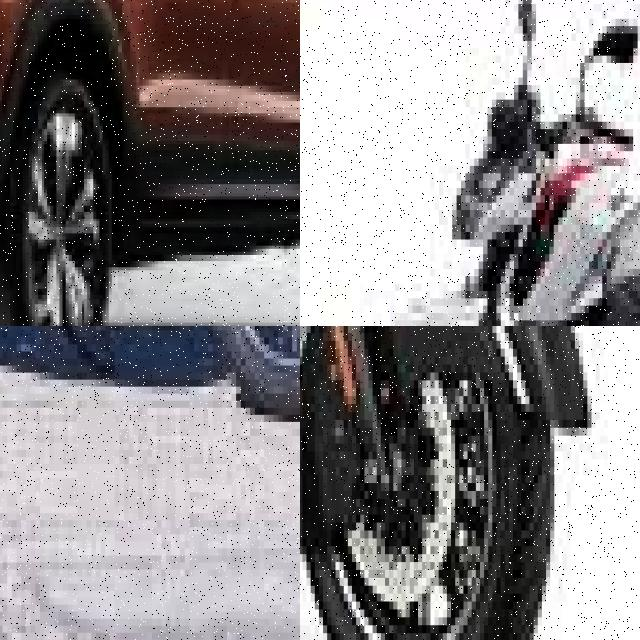bike: (300, 326, 599, 640), (346, 77, 640, 326), (0, 326, 300, 436)
car: (0, 0, 300, 326)
